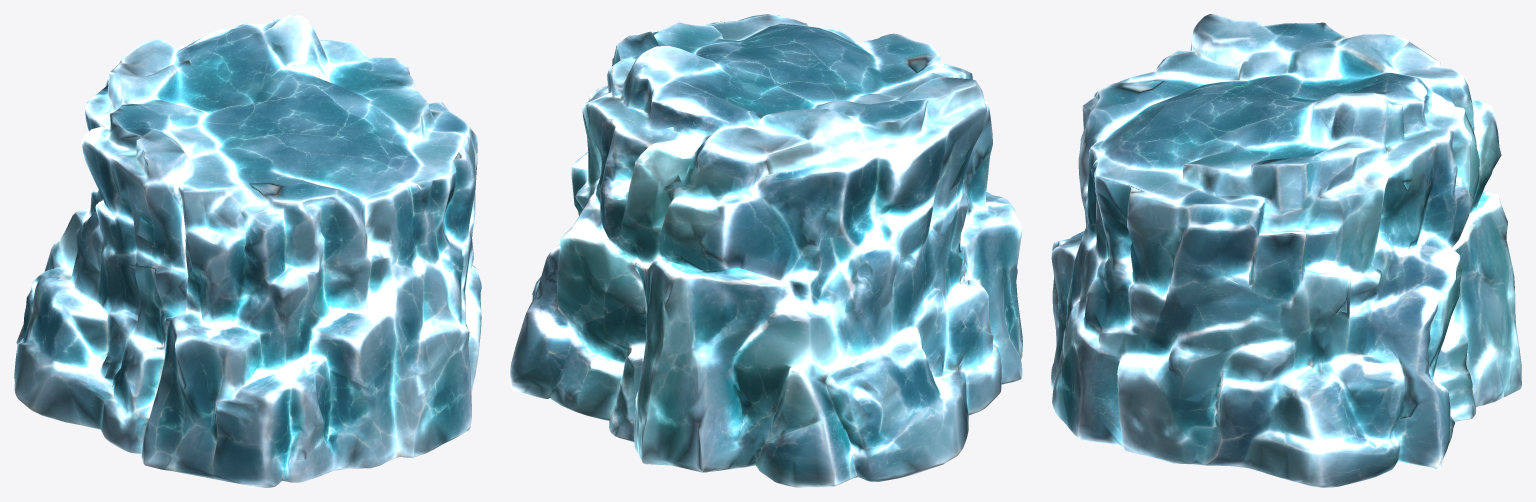
Rendered from ice_pillar.glb.
3 views of the same model, side by side, from view 1: azimuth 30°, elevation 25°; view 2: azimuth 150°, elevation 25°; view 3: azimuth 270°, elevation 25° (orthographic). The views are drawn at different scales.
Parts seen in each view (by area): view 1: ice_pillar; view 2: ice_pillar; view 3: ice_pillar.
Boxes of the visible parts, x1,y1,x2,y2 form: ice_pillar: (14, 14, 481, 487); ice_pillar: (510, 14, 1022, 487); ice_pillar: (1051, 14, 1521, 487).
Size of the model in its own units: 1.9 by 1.44 by 1.86.
Materials: 1 (1 with a texture image).
